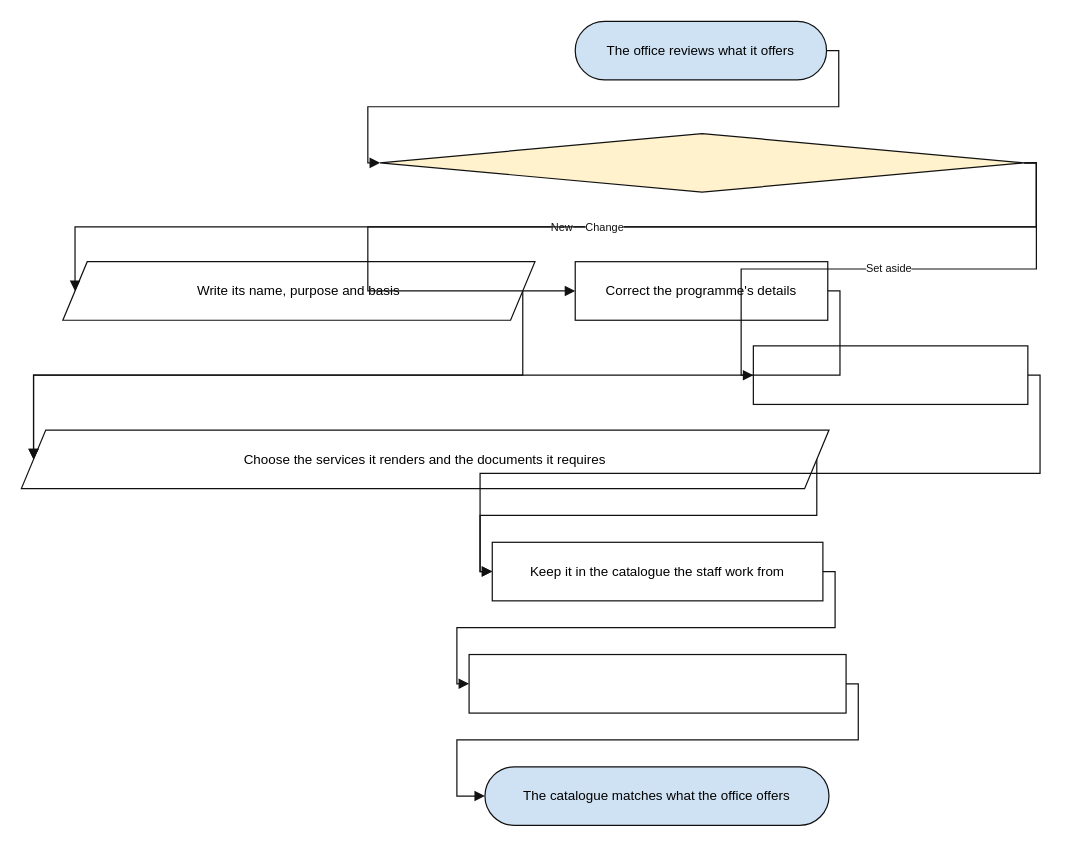
This 1071x847 diagram has some shape labels left out. The shapes that lost their labels are listed below. From the top down, each one's box as (x1, y1, x2, y2) in pixels, then its label:
(379, 132, 1024, 192): A new programme, a change, or one to set aside?
(752, 345, 1028, 404): It stops being offered to new cases
(468, 653, 846, 713): It appears wherever a programme may be chosen
